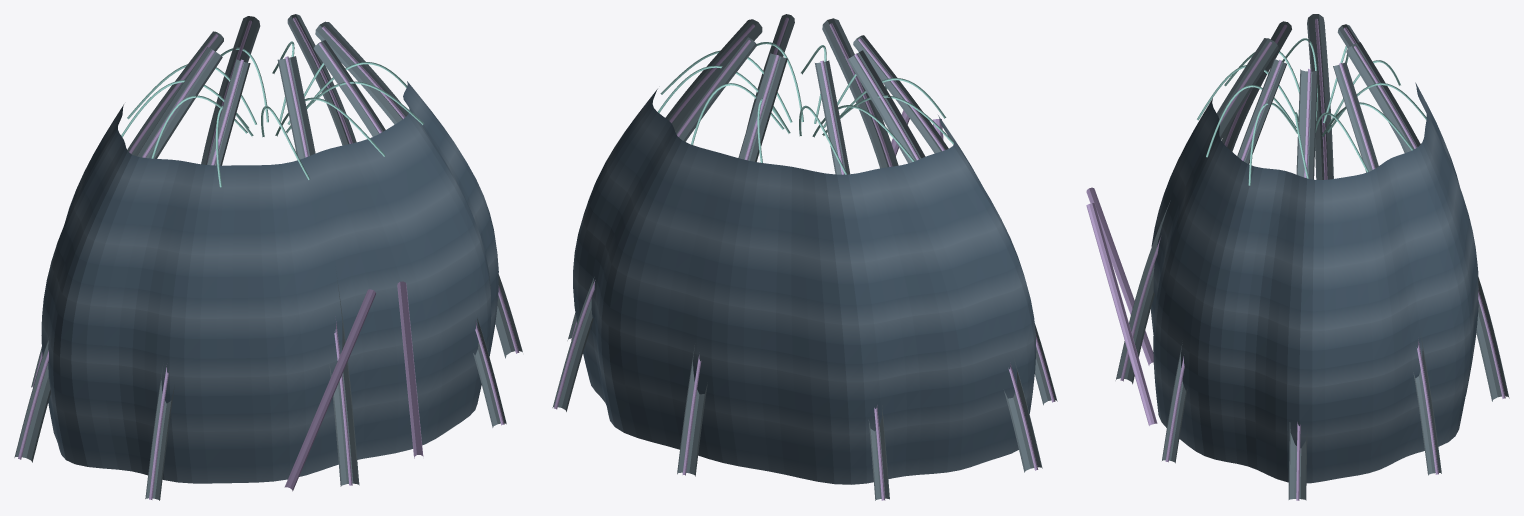
Rendered from hexcore_destination_04.glb.
3 views of the same model, side by side, from view 1: azimuth 30°, elevation 25°; view 2: azimuth 150°, elevation 25°; view 3: azimuth 270°, elevation 25° (orthographic). The views are drawn at different scales.
Visible parts, largest first — view 1: world; view 2: world; view 3: world.
Part boxes in pixels (<box>): world: <box>14,14,522,500</box>; world: <box>552,14,1057,500</box>; world: <box>1086,14,1509,500</box>.
Bounding box in the file's own units: 39.11 × 28.82 × 31.06.
